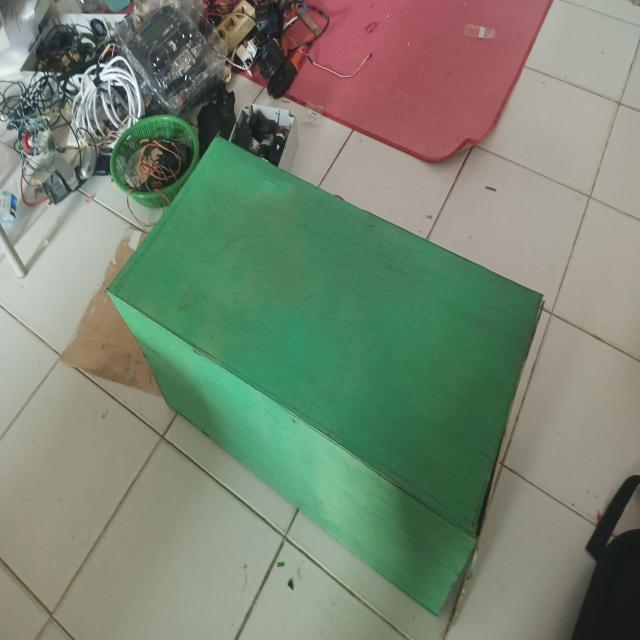green_box: (105, 128, 530, 623)
